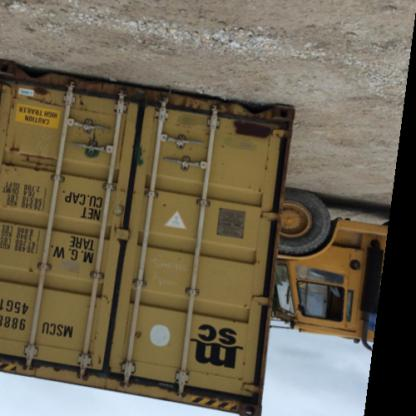Damage: (21, 83, 120, 121), (179, 377, 264, 411), (2, 144, 66, 178), (228, 113, 288, 149), (87, 282, 117, 318), (110, 178, 146, 206), (129, 323, 148, 351)
